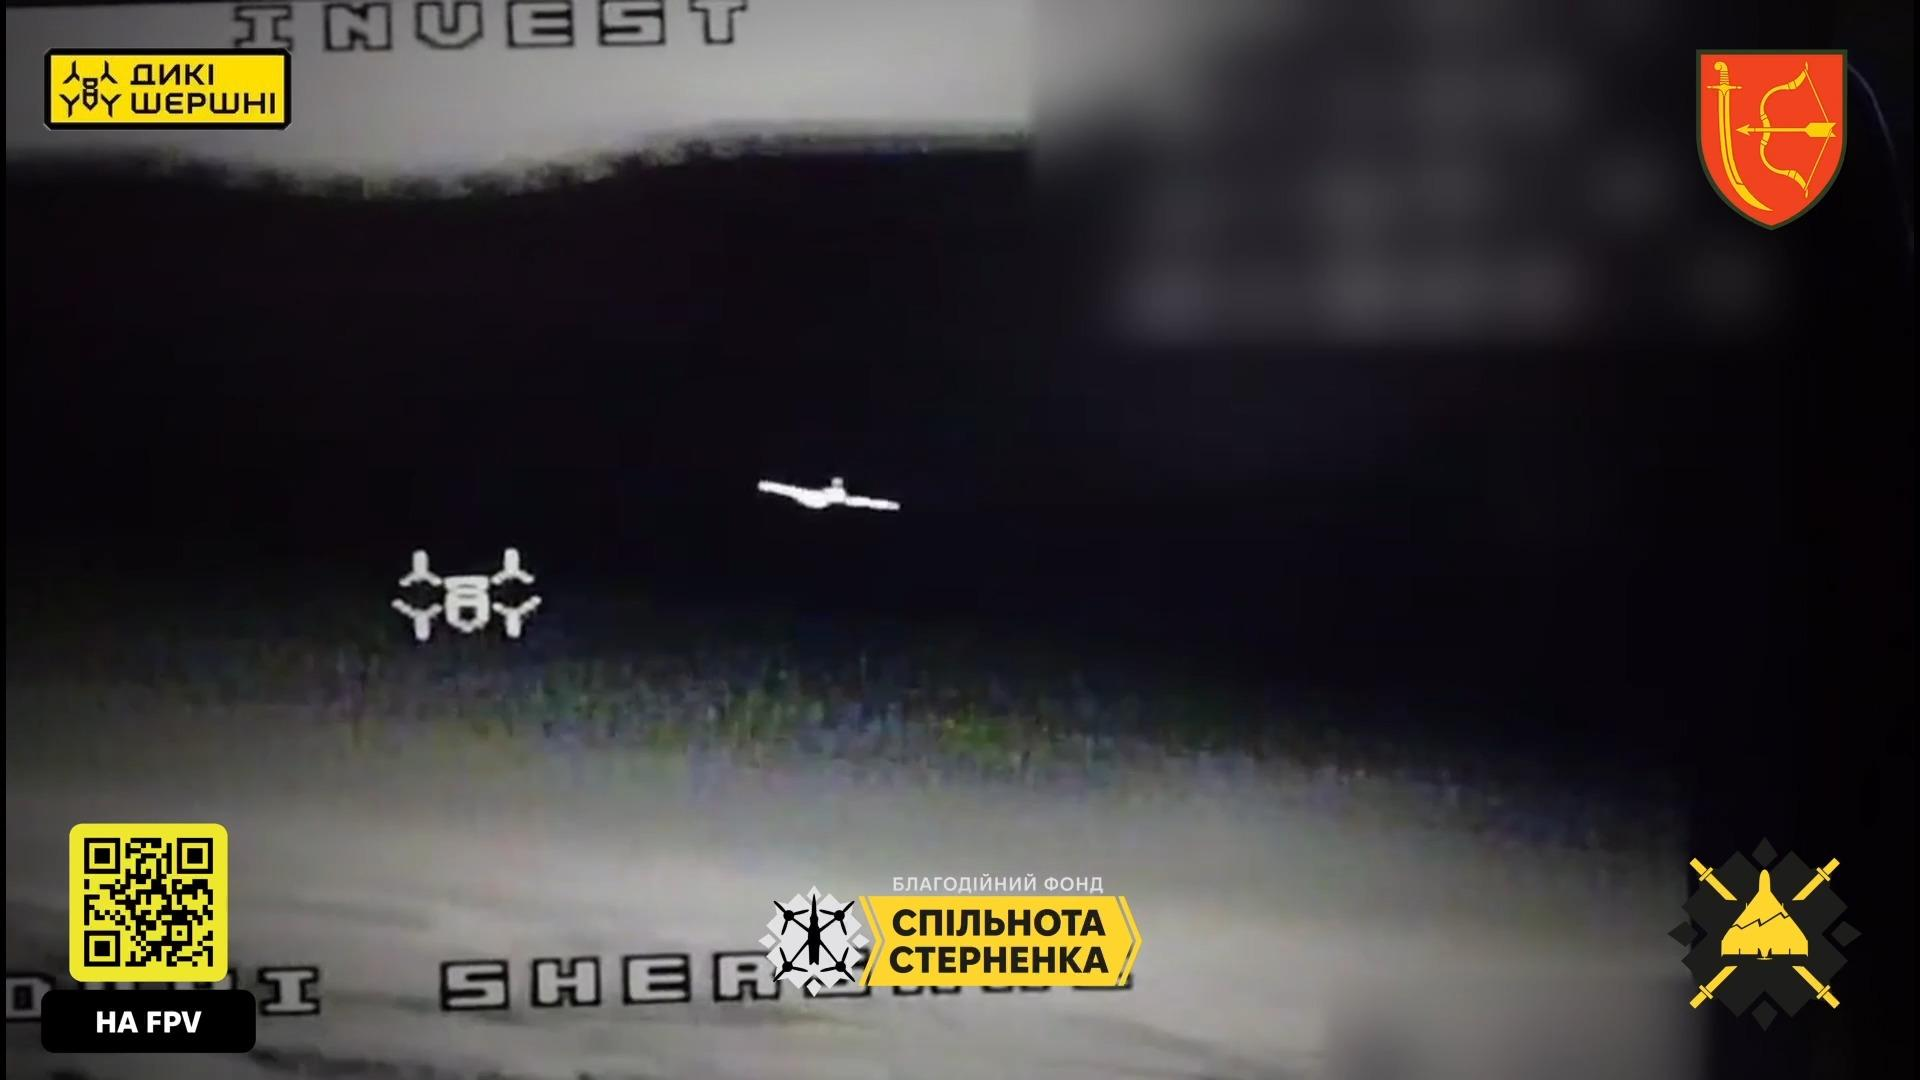Gerbera: (757, 473, 902, 512)
